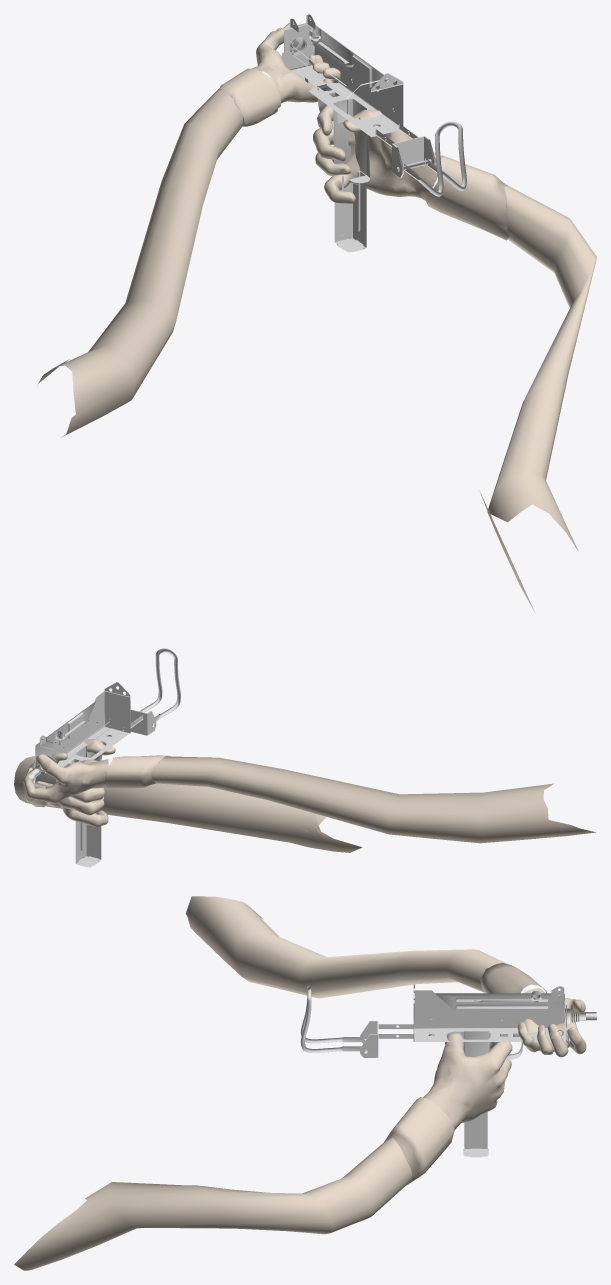
Rendered from mac10_posed.glb.
The picture shows the model from 3 angles, top to bottom: view 1: azimuth 30°, elevation 25°; view 2: azimuth 150°, elevation 25°; view 3: azimuth 270°, elevation 25°; orthographic projection. The views are drawn at different scales.
Visible parts, largest first — view 1: char, body; view 2: char, body; view 3: char, body.
Part boxes in pixels (x1,y1,x2,y2): char: (38, 23, 596, 611); body: (276, 14, 466, 252); char: (14, 739, 595, 852); body: (28, 648, 180, 867); char: (14, 896, 586, 1270); body: (300, 984, 596, 1157).
Size of the model in its own units: 1.06 by 0.5752 by 0.9839.
